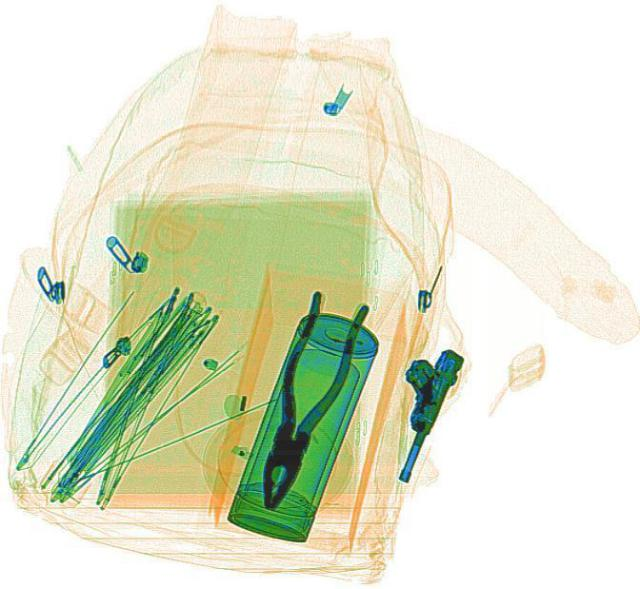Gun: (368, 339, 464, 481)
Pliers: (238, 288, 370, 515)
